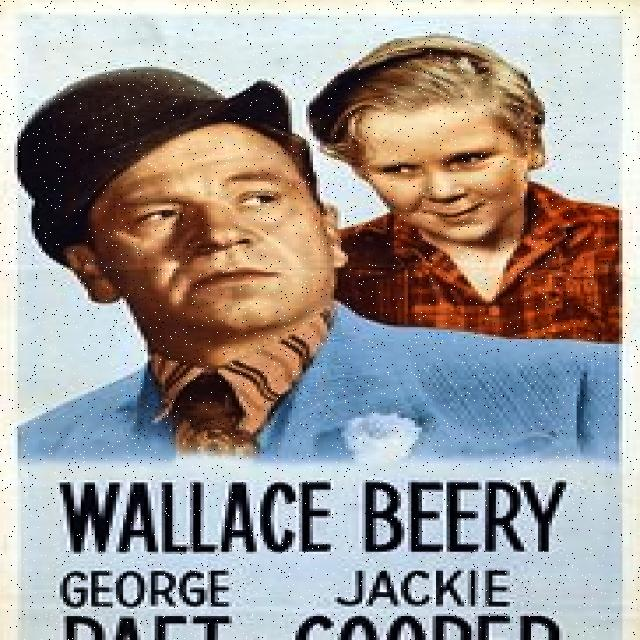movie-judul: (46, 472, 589, 559)
picture: (12, 15, 619, 463)
